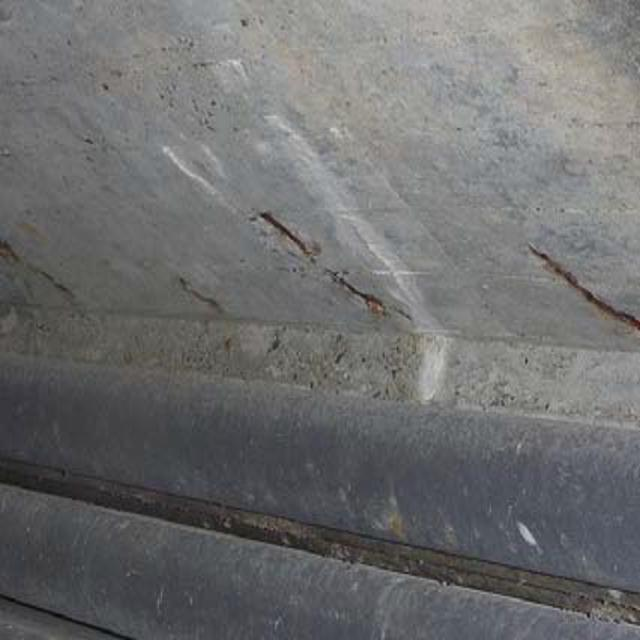spalling: (244, 183, 387, 323), (523, 230, 640, 347)
